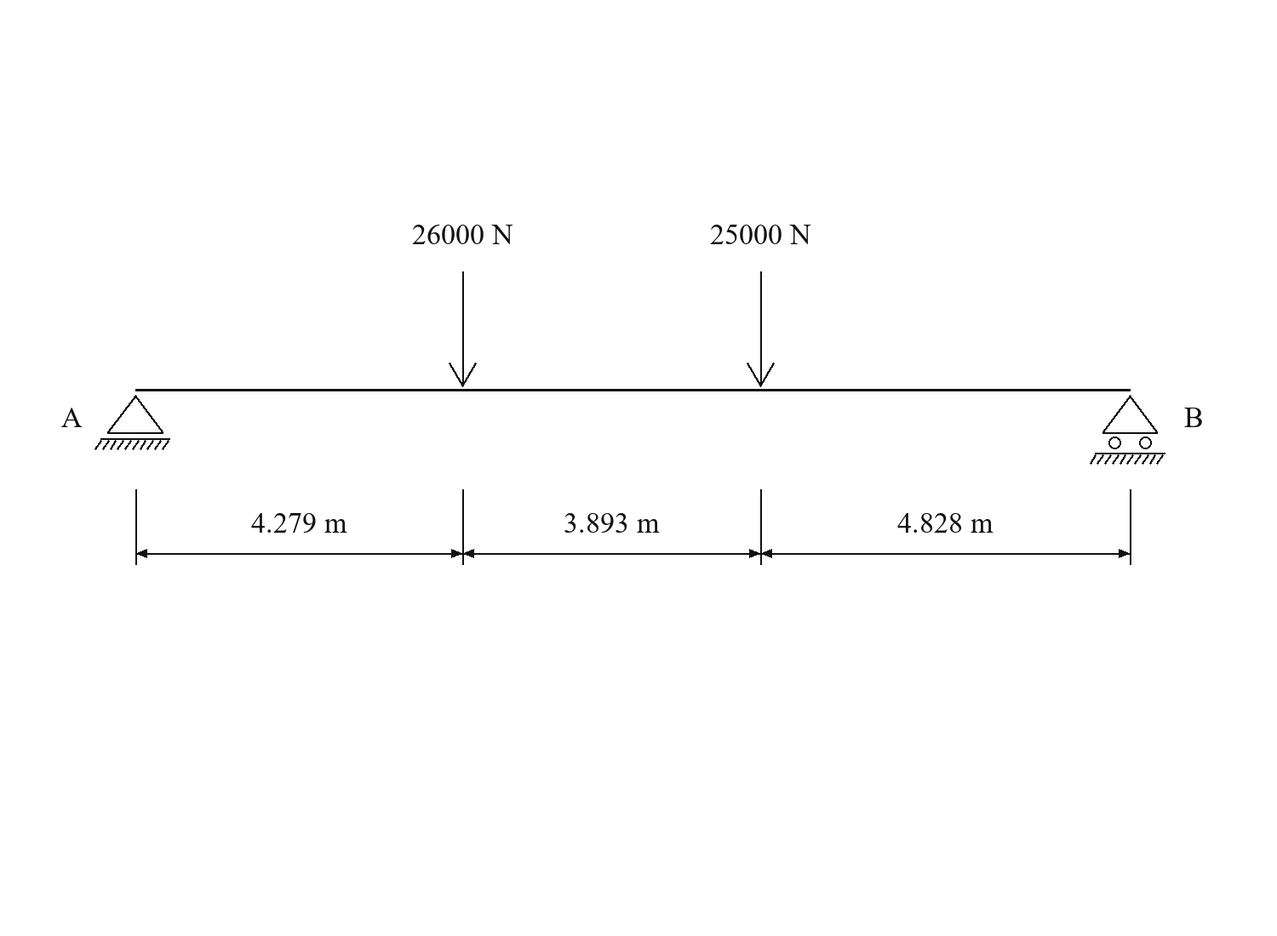pin_support: (94, 395, 170, 450)
point_load: (449, 271, 477, 387), (747, 271, 775, 387)
roller_support: (1090, 395, 1165, 465)
